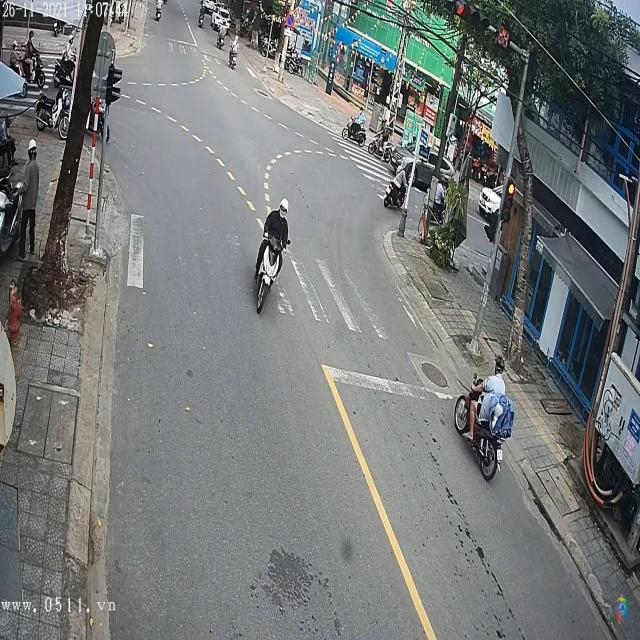motorcycle: (454, 368, 504, 486), (252, 221, 283, 318), (342, 110, 366, 152)
